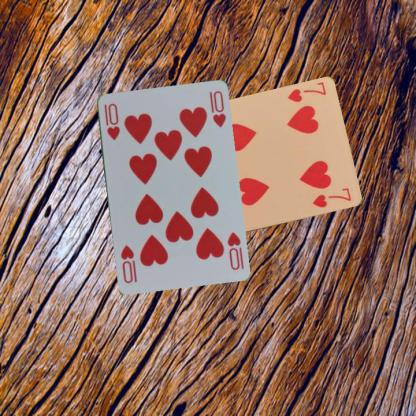10h: (101, 101, 121, 141), (224, 229, 242, 271)
7h: (284, 80, 328, 104)
